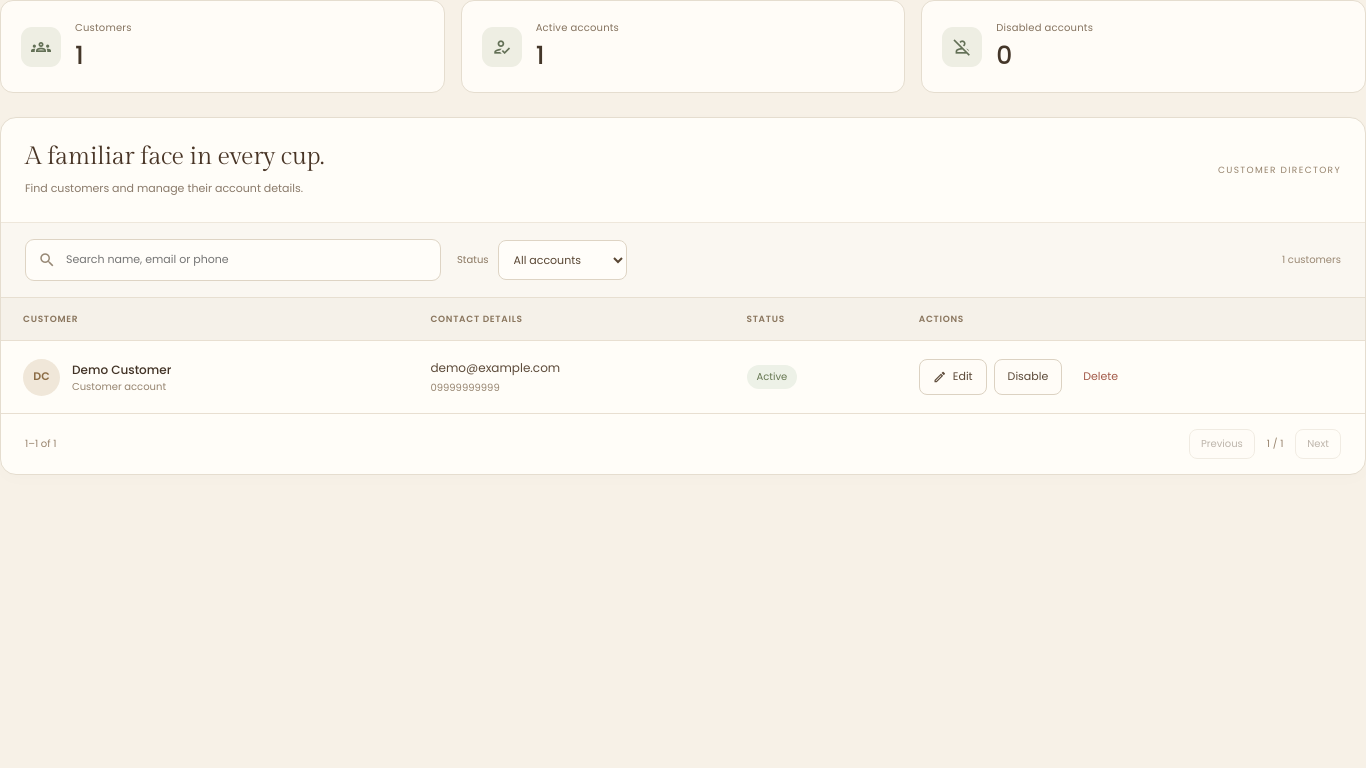
Test: customer edit opens a labeled inline form instead of browser prompts
The width and height of the screenshot is (1366, 768).
What coordinates should you click on to do the following:
click the button "Edit"
I would click on:
 (953, 377)
Its box is [919,360,987,395].
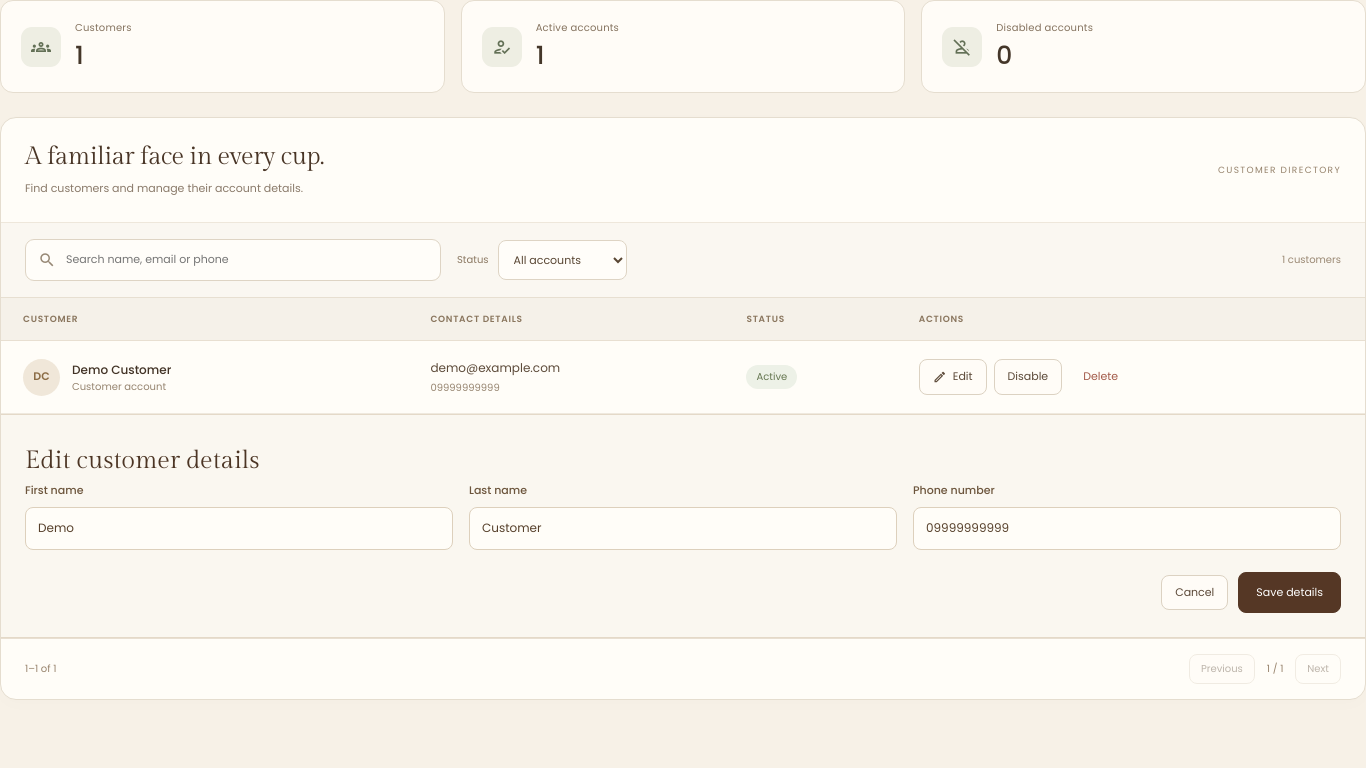
Expected: the field labelled "First name" holds "Demo", [25,507,453,550]
Expected: the field labelled "Phone number" holds "09999999999", [913,507,1341,550]
What coordinates should you click on to do the following:
click the button "Cancel"
I would click on:
 (1195, 593)
Its box is [1161,575,1228,610].
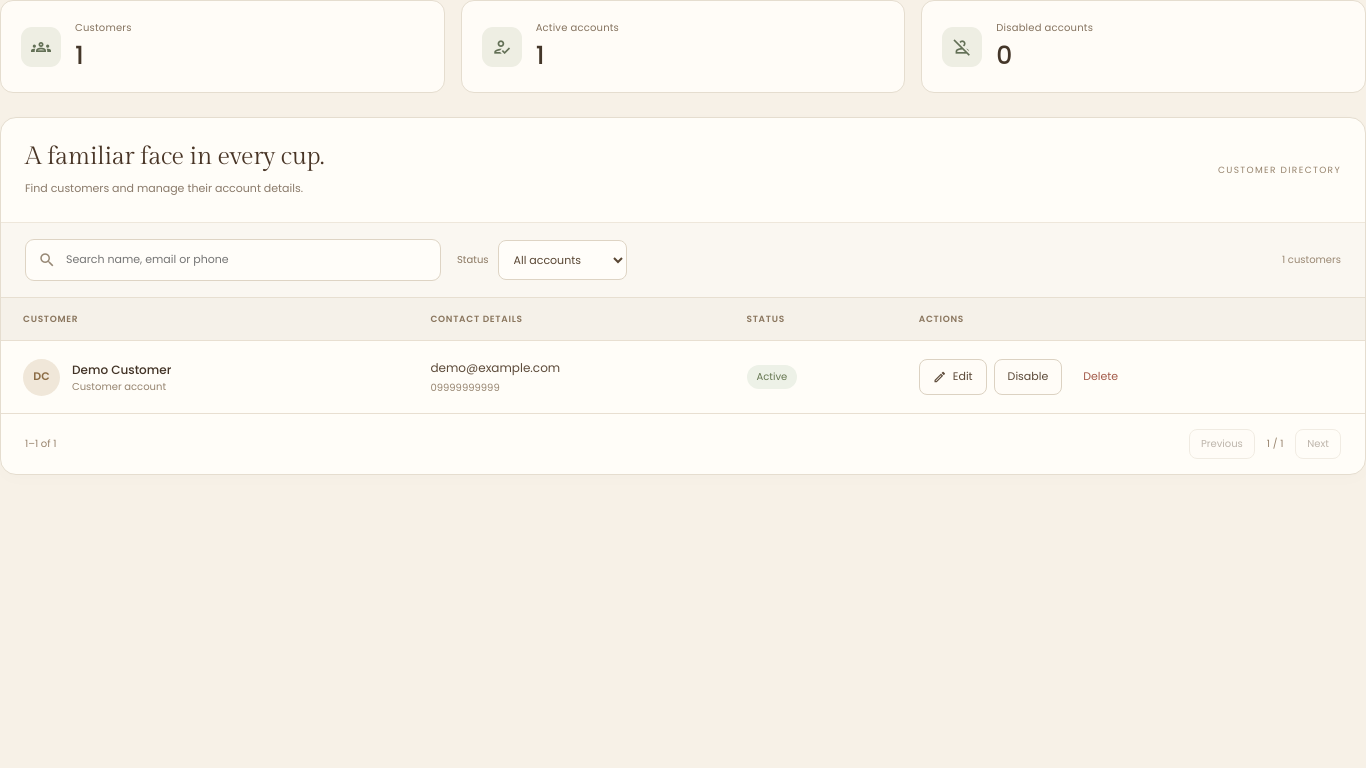
Expected: the label labelled "First name" is gone
